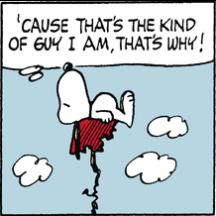snoopy: (55, 59, 136, 161)
